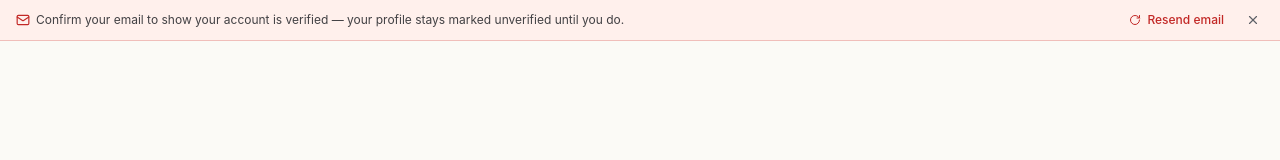
Test: EmailVerificationBanner › shows a failure message when resend errors
Click the button "Resend email" at {"x": 1177, "y": 20}, box [1123,8,1230,32]
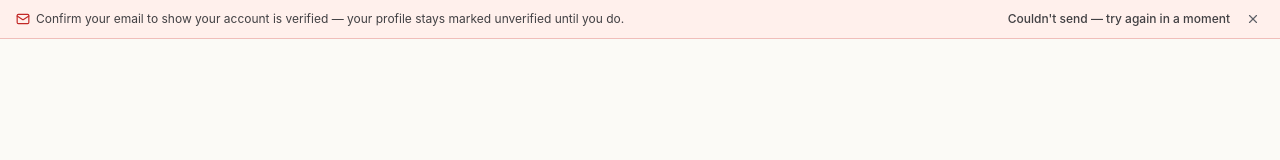
Check: the text "Couldn't send — try again in a moment" is shown, box [1008,11,1230,26]
